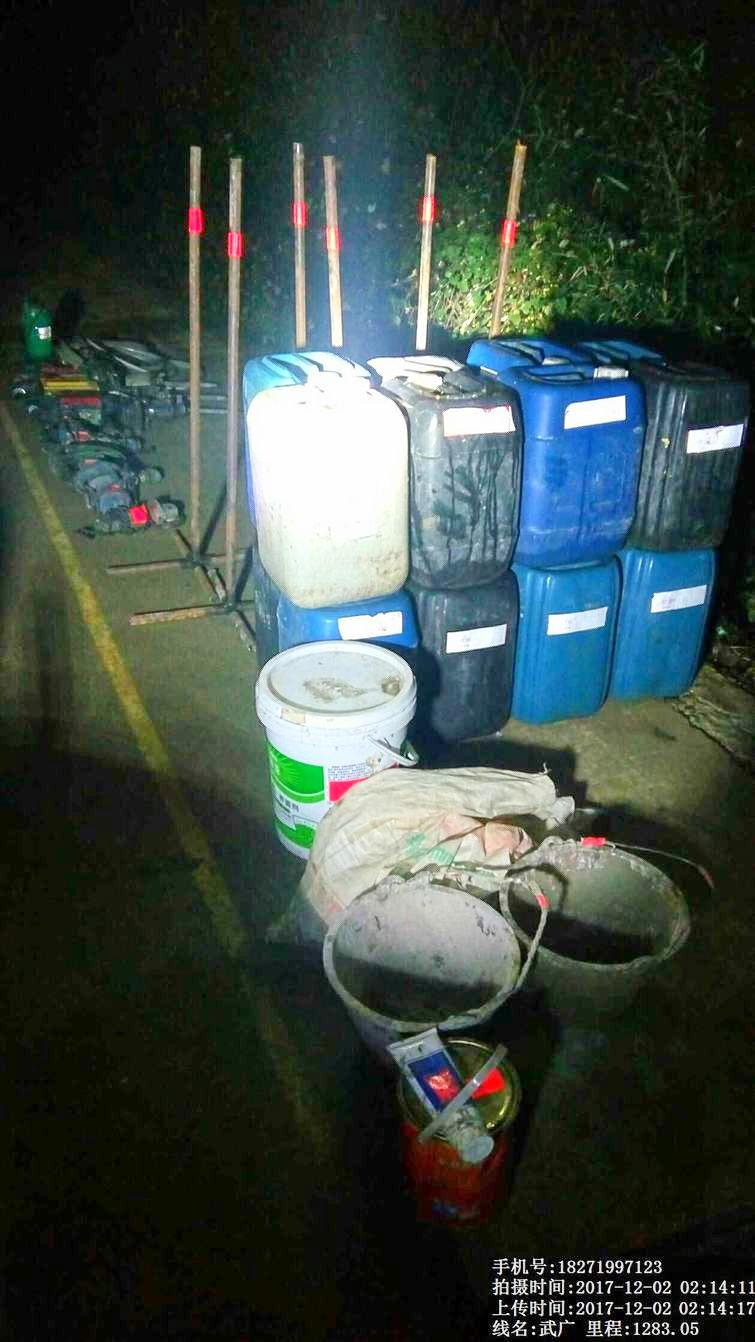SLT: (240, 371, 421, 605), (495, 356, 637, 553), (634, 358, 747, 546), (504, 558, 618, 716), (618, 550, 721, 711)
SNT: (295, 881, 531, 1034), (514, 829, 694, 988)
